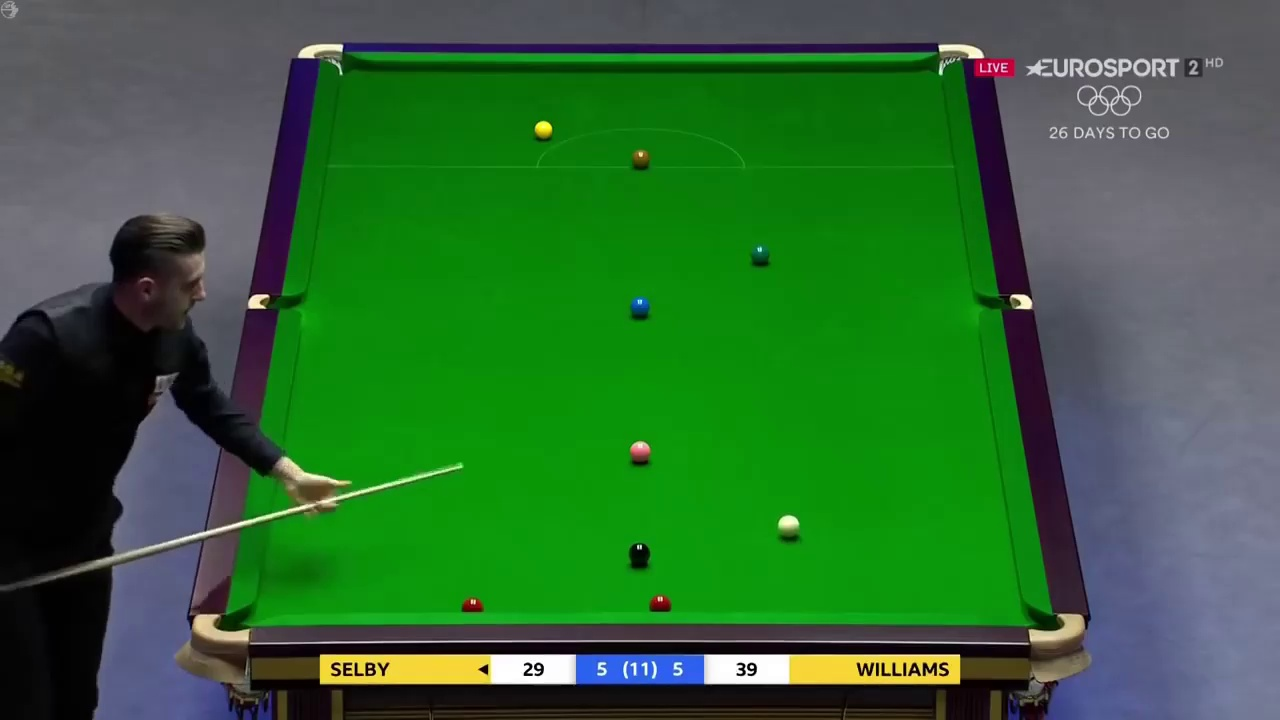ball: (627, 443, 653, 468), (778, 514, 802, 541), (748, 244, 770, 266), (532, 119, 555, 140), (628, 542, 651, 563), (633, 146, 653, 168), (629, 299, 649, 318)
